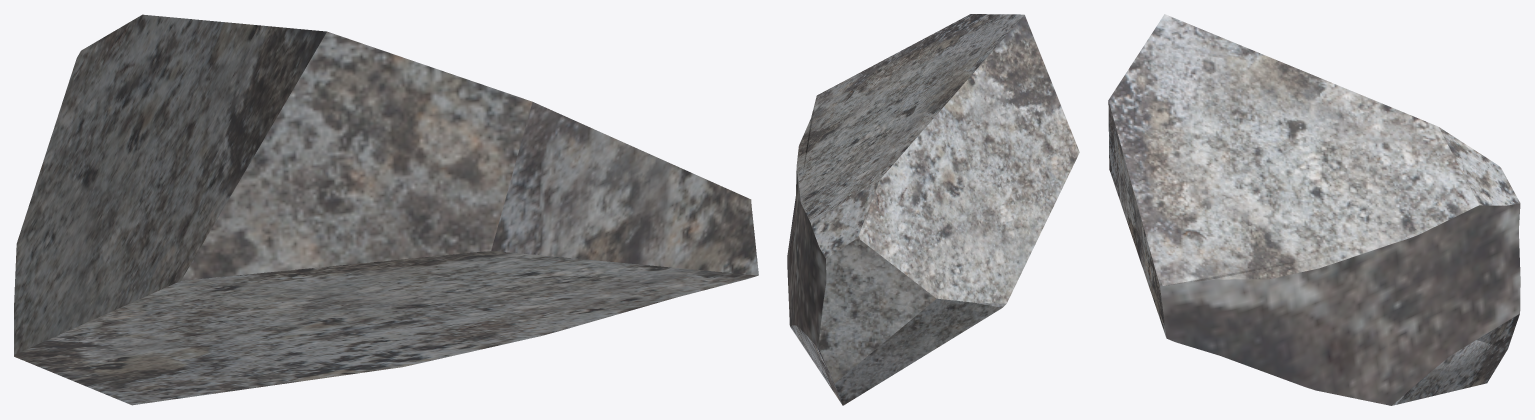
Rendered from Asteroid_Large_001_02_006_03_004.fbx.
3 views of the same model, side by side, from view 1: azimuth 30°, elevation 25°; view 2: azimuth 150°, elevation 25°; view 3: azimuth 270°, elevation 25° (orthographic). The views are drawn at different scales.
Visible parts, largest first — view 1: Asteroid_Large_001_02_006_03_004; view 2: Asteroid_Large_001_02_006_03_004; view 3: Asteroid_Large_001_02_006_03_004.
Part boxes in pixels (x1,y1,x2,y2): Asteroid_Large_001_02_006_03_004: (14,14,758,405); Asteroid_Large_001_02_006_03_004: (787,14,1079,405); Asteroid_Large_001_02_006_03_004: (1108,14,1520,405).
Size of the model in its own units: 11.36 by 11.37 by 12.29.
